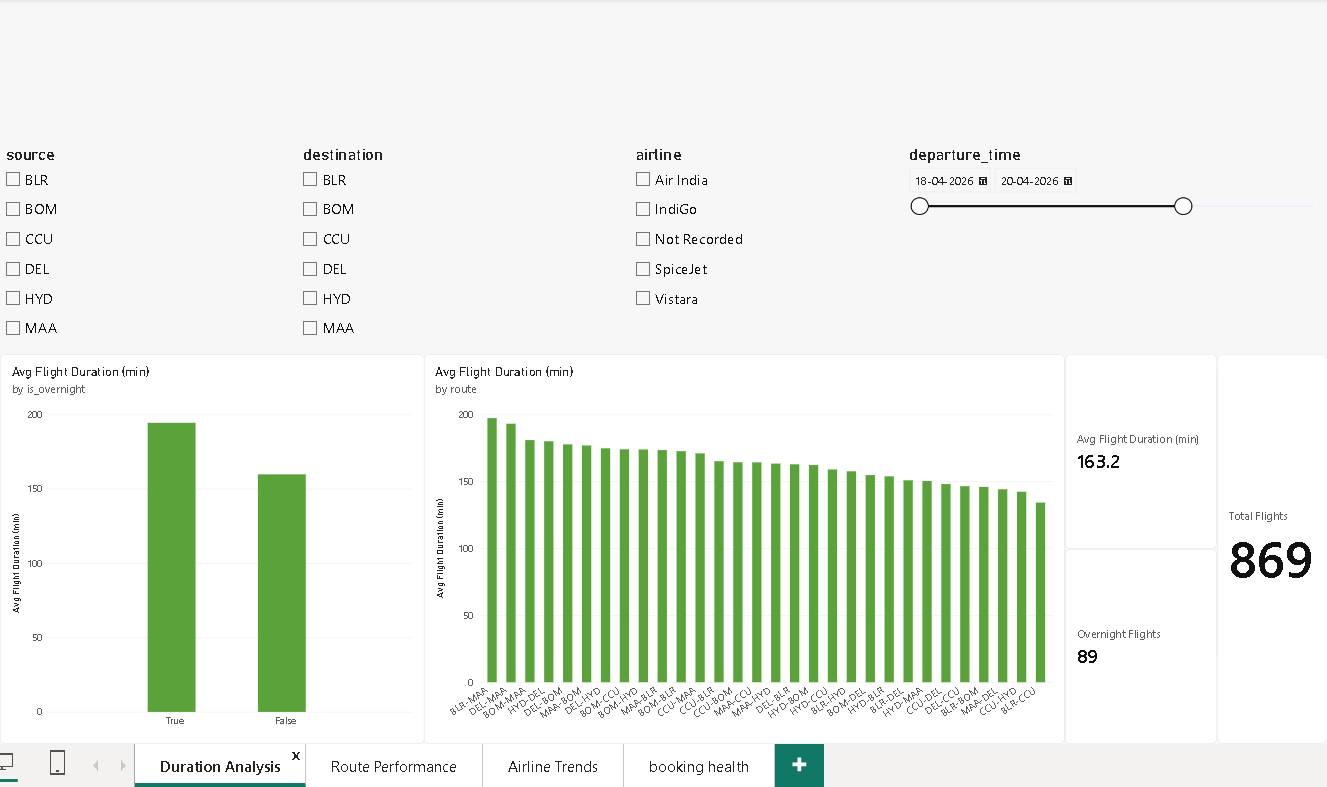

This screenshot's page, from the dashboard's own definition file:
{"tool":"powerbi","page":{"name":"Duration Analysis","canvas":[1920,1080],"ordinal":0},"visuals":[{"type":"cardVisual","fields":{"Data":["flights.Avg Flight Duration (min)"]},"box":[1542,516,220,282],"z":0},{"type":"cardVisual","fields":{"Data":["flights.Overnight Flights"]},"box":[1542,798,220,282],"z":2000},{"type":"cardVisual","fields":{"Data":["flights.Total Flights"]},"box":[1762,516,158,564],"z":3000},{"type":"clusteredColumnChart","fields":{"Category":["flights.route"],"Y":["flights.Avg Flight Duration (min)"]},"box":[614,516,928,564],"z":4000},{"type":"clusteredColumnChart","fields":{"Category":["flights.is_overnight"],"Y":["flights.Avg Flight Duration (min)"]},"box":[0,516,614,564],"z":5000},{"type":"slicer","fields":{"Values":["flights.source"]},"box":[0,212,430,300],"z":5001},{"type":"slicer","fields":{"Values":["flights.destination"]},"box":[430,212,482,300],"z":5002},{"type":"slicer","fields":{"Values":["flights.airline"]},"box":[912,212,396,306],"z":5003},{"type":"slicer","fields":{"Values":["flights.departure_time"]},"box":[1308,212,612,304],"z":5004}]}

Visuals, with their boxes on the page's 1920x1080 design canvas (x1, y1, x2, y2). These are canvas units, not pixel positions in the 1327x787 screenshot, which may show the page scaled, cropped or inside an application window:
cardVisual - flights.Avg Flight Duration (min): bbox=(1542, 516, 1762, 798)
cardVisual - flights.Overnight Flights: bbox=(1542, 798, 1762, 1080)
cardVisual - flights.Total Flights: bbox=(1762, 516, 1920, 1080)
clusteredColumnChart - flights.route x flights.Avg Flight Duration (min): bbox=(614, 516, 1542, 1080)
clusteredColumnChart - flights.is_overnight x flights.Avg Flight Duration (min): bbox=(0, 516, 614, 1080)
slicer - flights.source: bbox=(0, 212, 430, 512)
slicer - flights.destination: bbox=(430, 212, 912, 512)
slicer - flights.airline: bbox=(912, 212, 1308, 518)
slicer - flights.departure_time: bbox=(1308, 212, 1920, 516)
